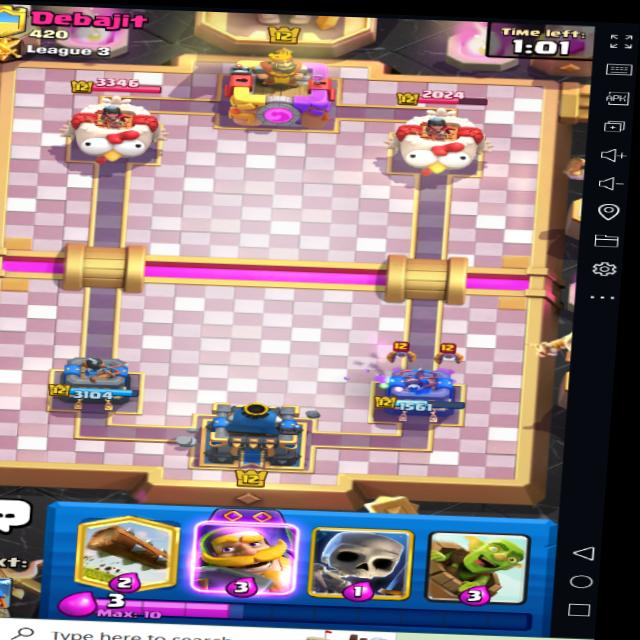bats: (422, 338, 477, 371), (374, 340, 417, 366)
